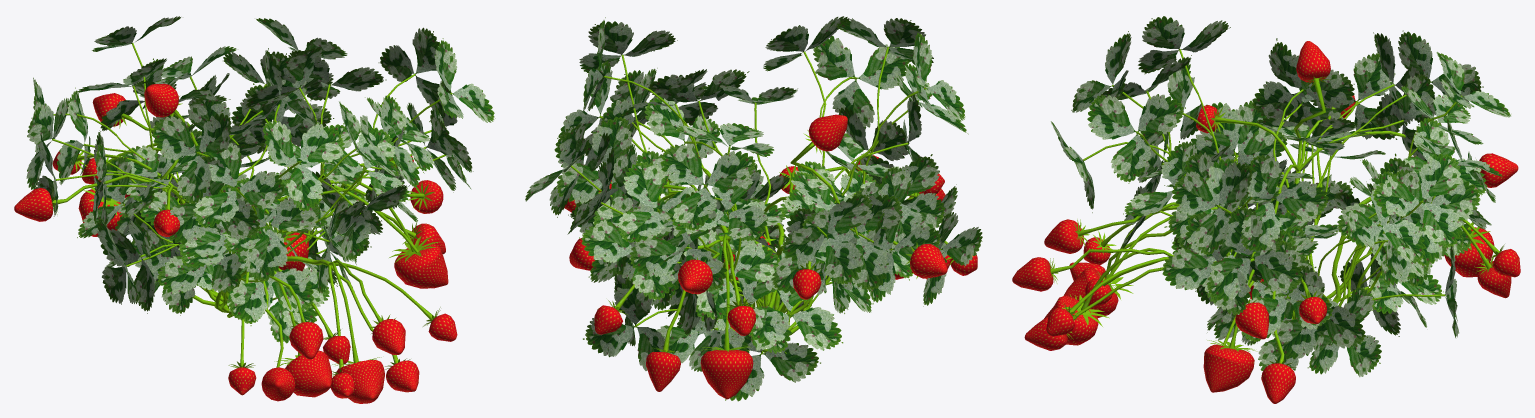
Rendered from strawberry_mildew.obj.
3 renders of one model, left to right at view 1: azimuth 30°, elevation 25°; view 2: azimuth 150°, elevation 25°; view 3: azimuth 270°, elevation 25°, orthographic. The views are drawn at different scales.
Parts seen in each view (by area): view 1: Strawberry_001; view 2: Strawberry_001; view 3: Strawberry_001.
Boxes of the visible parts, x1,y1,x2,y2 form: Strawberry_001: (14,16,495,403); Strawberry_001: (525,16,982,401); Strawberry_001: (1012,16,1520,403).
Bounding box in the file's own units: 0.4843 × 0.3214 × 0.5047.
5 materials, 5 textured.
